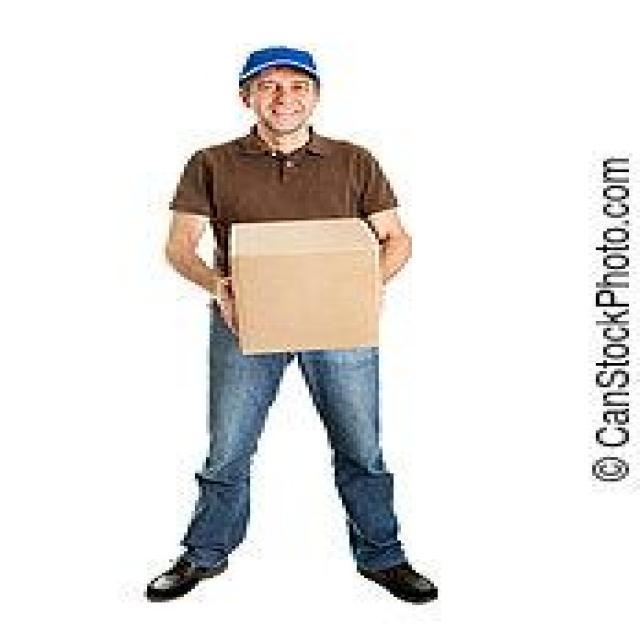box: (218, 212, 390, 364)
